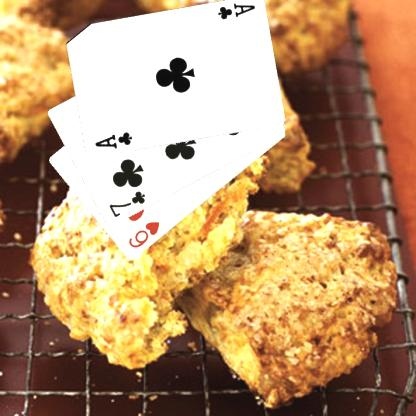6H: (126, 219, 161, 250)
7C: (106, 189, 147, 219)
AC: (92, 130, 134, 150), (214, 1, 256, 21)
